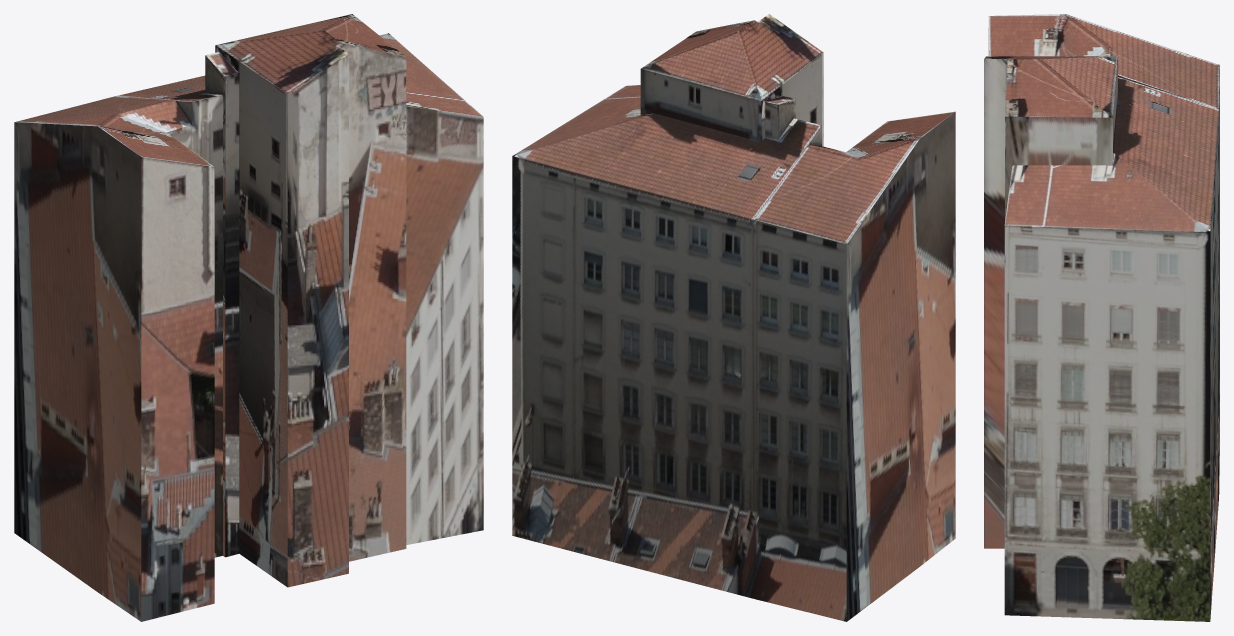
3 views of the same model, side by side, from view 1: azimuth 30°, elevation 25°; view 2: azimuth 150°, elevation 25°; view 3: azimuth 270°, elevation 25° (orthographic). The views are drawn at different scales.
Parts seen in each view (by area): view 1: Z_UP; view 2: Z_UP; view 3: Z_UP.
Boxes of the visible parts, <box> form: Z_UP: <box>14,14,483,621</box>; Z_UP: <box>512,14,955,621</box>; Z_UP: <box>984,14,1219,621</box>.
Bounding box in the file's own units: 24.13 × 32.54 × 14.16.
Materials: 2 (1 with a texture image).
